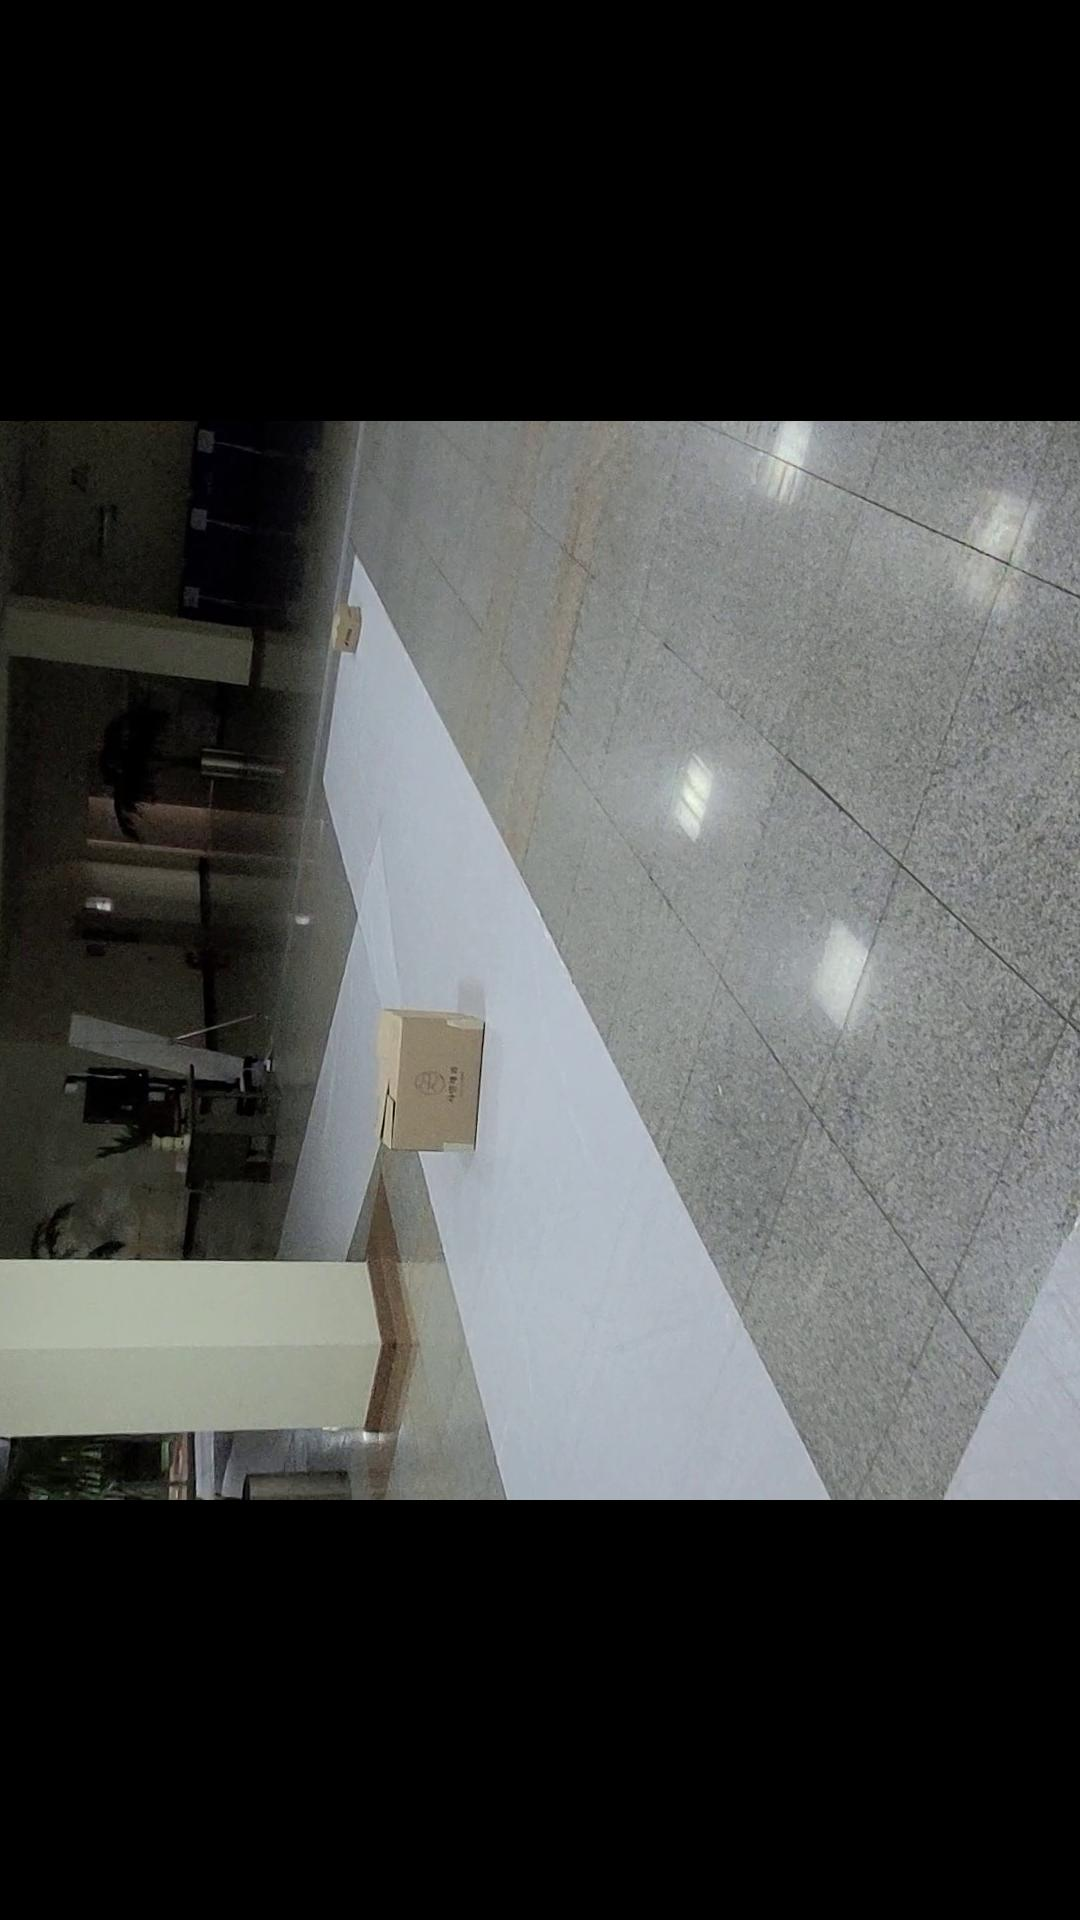Box: (343, 971, 516, 1178), (298, 574, 371, 688)
